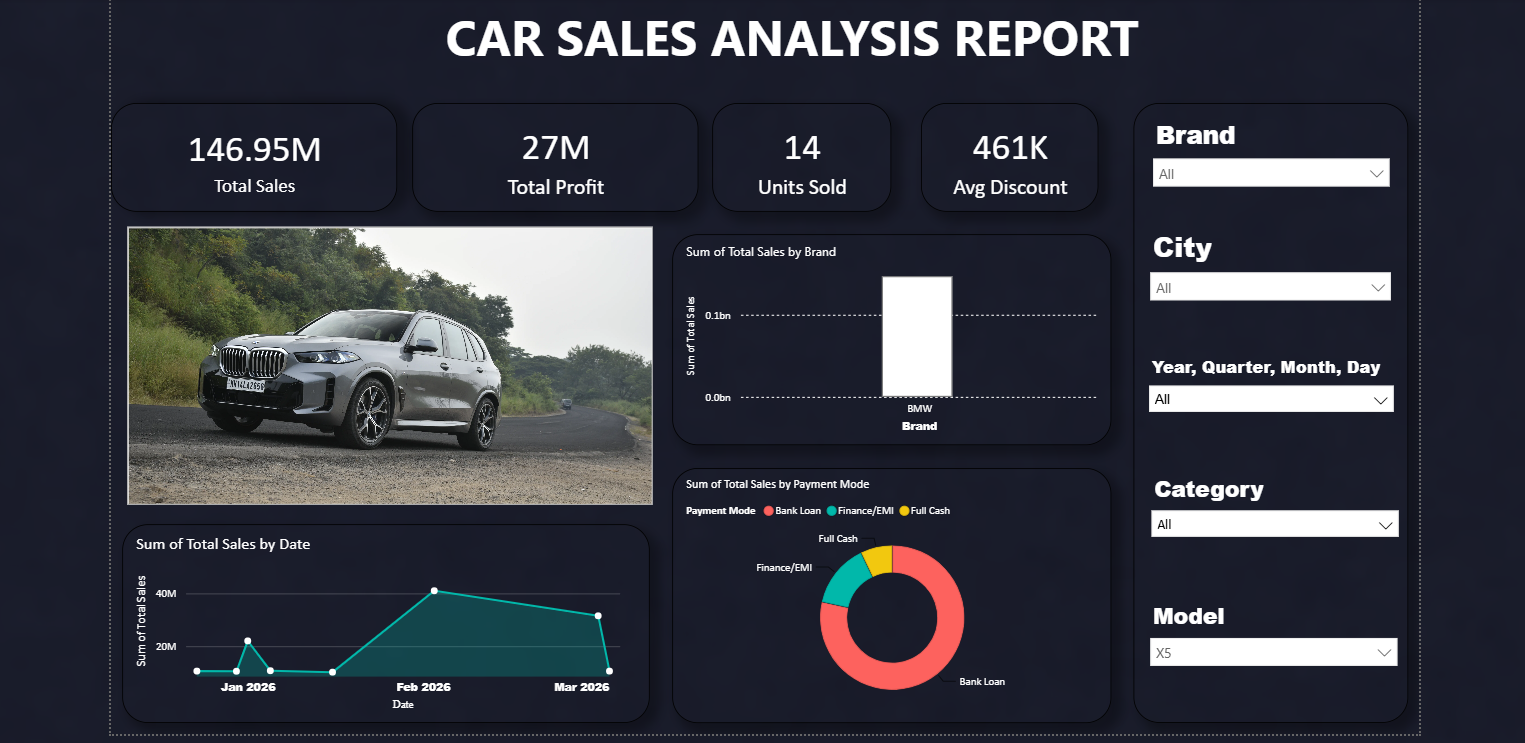

The page's visual inventory and layout, read from the dashboard file:
{"tool":"powerbi","page":{"name":"Page 1","canvas":[1280,720],"ordinal":0},"visuals":[{"type":"card","fields":{"Values":["Sum(car_sales_full.Total Sales)"]},"box":[0,102.7,280,106.4],"z":0},{"type":"card","fields":{"Values":["Sum(car_sales_full.Profit)"]},"box":[294.7,102.7,280,106.4],"z":1000},{"type":"card","fields":{"Values":["Sum(car_sales_full.Units Sold)"]},"box":[588.2,102.7,174.9,106.4],"z":2000},{"type":"card","fields":{"Values":["Avg(car_sales_full.Discount)"]},"box":[792.4,102.7,173.6,106.4],"z":3000},{"type":"clusteredColumnChart","fields":{"Category":["car_sales_full.Brand"],"Y":["Sum(car_sales_full.Total Sales)"]},"box":[549.1,231.1,429.2,206.7],"z":4000},{"type":"areaChart","fields":{"Category":["car_sales_full.Date"],"Y":["Sum(car_sales_full.Total Sales)"]},"box":[11,514.8,516,194.4],"z":5000},{"type":"donutChart","fields":{"Category":["car_sales_full.Payment Mode"],"Y":["Sum(car_sales_full.Total Sales)"]},"box":[549.1,459.8,429.2,249.5],"z":6000},{"type":"slicer","fields":{"Values":["car_sales_full.Brand"]},"box":[1000.3,102.7,269,606.5],"z":7000},{"type":"slicer","fields":{"Values":["car_sales_full.City"]},"box":[1006.4,218.9,255.6,229.9],"z":8000},{"type":"slicer","fields":{"Values":["car_sales_full.Date.Variation.Date Hierarchy.Year","car_sales_full.Date.Variation.Date Hierarchy.Quarter","car_sales_full.Date.Variation.Date Hierarchy.Month","car_sales_full.Date.Variation.Date Hierarchy.Day"]},"box":[1005.2,344.8,259.2,134.5],"z":9000},{"type":"slicer","fields":{"Values":["car_sales_full.Category"]},"box":[1007.6,459.8,261.7,108.8],"z":10000},{"type":"slicer","fields":{"Values":["car_sales_full.Model"]},"box":[1006.4,584.5,261.7,95.4],"z":11000},{"type":"advancedSlicerVisual","fields":{"Values":["car_sales_full.Model Preview"]},"box":[11,218.9,524.6,282.5],"z":12000},{"type":"textbox","box":[70.9,0,1209.4,102.7],"z":13000}]}

Visuals, with their boxes on the page's 1280x720 design canvas (x1, y1, x2, y2). These are canvas units, not pixel positions in the 1525x743 screenshot, which may show the page scaled, cropped or inside an application window:
card - Sum(car_sales_full.Total Sales): {"left": 0, "top": 103, "right": 280, "bottom": 209}
card - Sum(car_sales_full.Profit): {"left": 295, "top": 103, "right": 575, "bottom": 209}
card - Sum(car_sales_full.Units Sold): {"left": 588, "top": 103, "right": 763, "bottom": 209}
card - Avg(car_sales_full.Discount): {"left": 792, "top": 103, "right": 966, "bottom": 209}
clusteredColumnChart - car_sales_full.Brand x Sum(car_sales_full.Total Sales): {"left": 549, "top": 231, "right": 978, "bottom": 438}
areaChart - car_sales_full.Date x Sum(car_sales_full.Total Sales): {"left": 11, "top": 515, "right": 527, "bottom": 709}
donutChart - car_sales_full.Payment Mode x Sum(car_sales_full.Total Sales): {"left": 549, "top": 460, "right": 978, "bottom": 709}
slicer - car_sales_full.Brand: {"left": 1000, "top": 103, "right": 1269, "bottom": 709}
slicer - car_sales_full.City: {"left": 1006, "top": 219, "right": 1262, "bottom": 449}
slicer - car_sales_full.Date.Variation.Date Hierarchy.Year x car_sales_full.Date.Variation.Date Hierarchy.Quarter: {"left": 1005, "top": 345, "right": 1264, "bottom": 479}
slicer - car_sales_full.Category: {"left": 1008, "top": 460, "right": 1269, "bottom": 569}
slicer - car_sales_full.Model: {"left": 1006, "top": 584, "right": 1268, "bottom": 680}
advancedSlicerVisual - car_sales_full.Model Preview: {"left": 11, "top": 219, "right": 536, "bottom": 501}
textbox: {"left": 71, "top": 0, "right": 1280, "bottom": 103}
